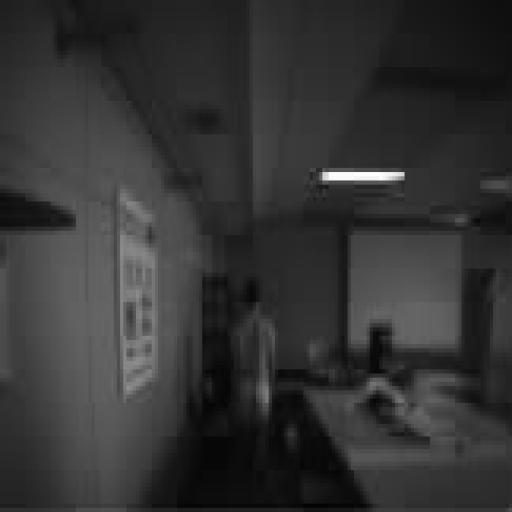human: (231, 277, 274, 470)
